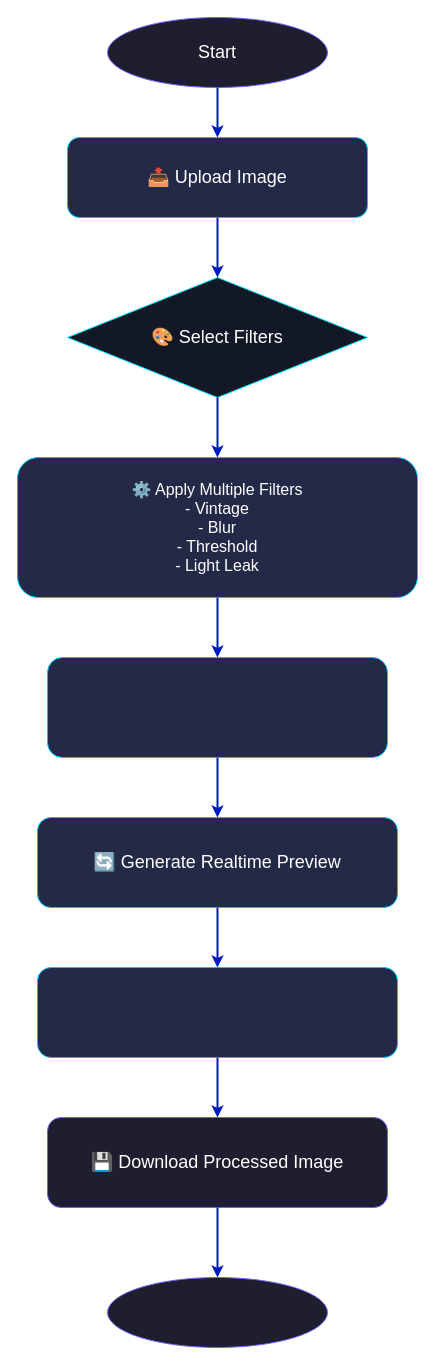
Image size: 435x1365. Some labels were removed from this diagram. Here are the shapes that lost their labels. From the top down, the centre of each, then its label:
At (x=217, y=707): "🎚️ Adjust Brightness, Contrast & Intensity".
At (x=217, y=1012): "🖼️ Before / After Comparison".
At (x=217, y=1312): "End".
